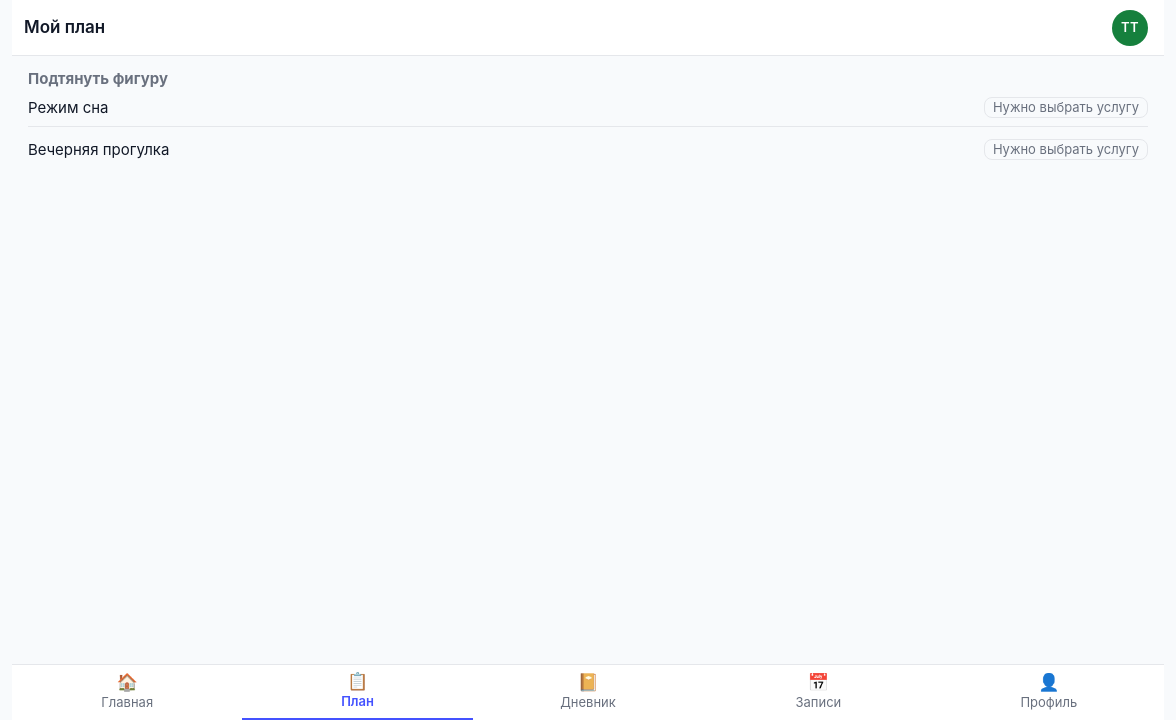
Test: «Мой план»: от шага к услуге, времени и записи › в выбранном дне времени уже нет — остальные дни остаются на выбор
Step 1. Click the button "Нужно выбрать услугу" in the row of "Вечерняя прогулка" → coordinates (1066, 150), box [984,139,1148,160]
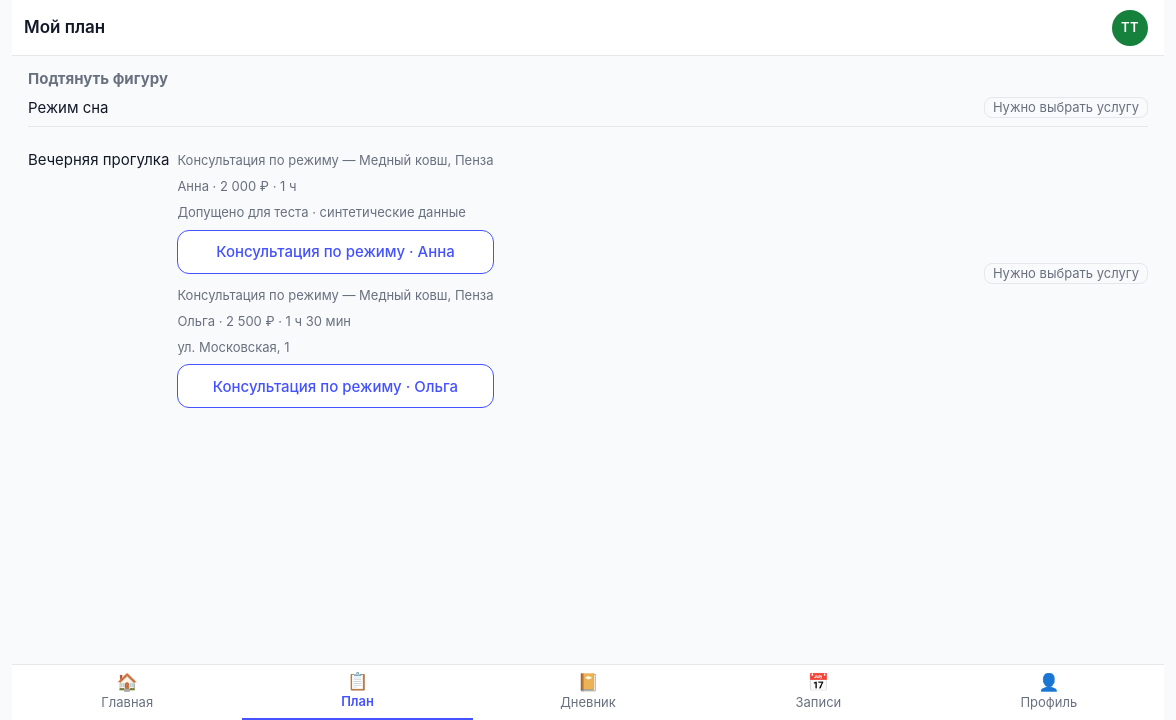
Step 2. Click the button "Консультация по режиму · Ольга" → coordinates (336, 386), box [177,364,494,408]
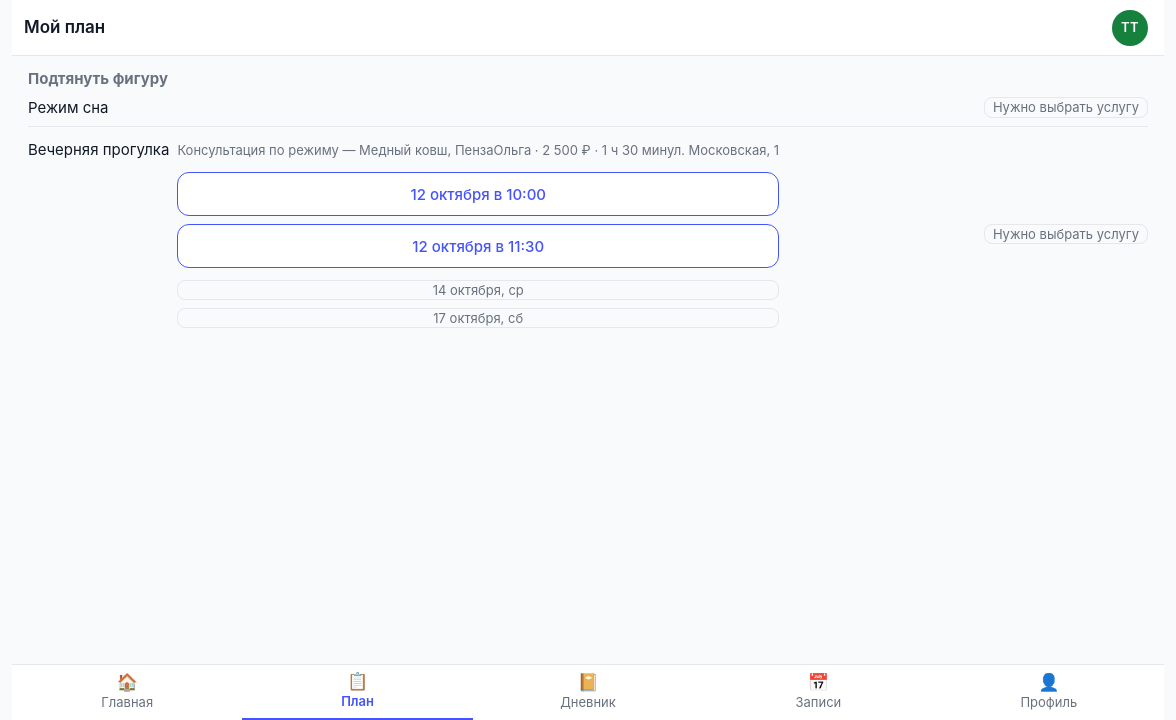
Step 3. Click the button "17 октября, сб" → coordinates (478, 318), box [177,308,779,328]
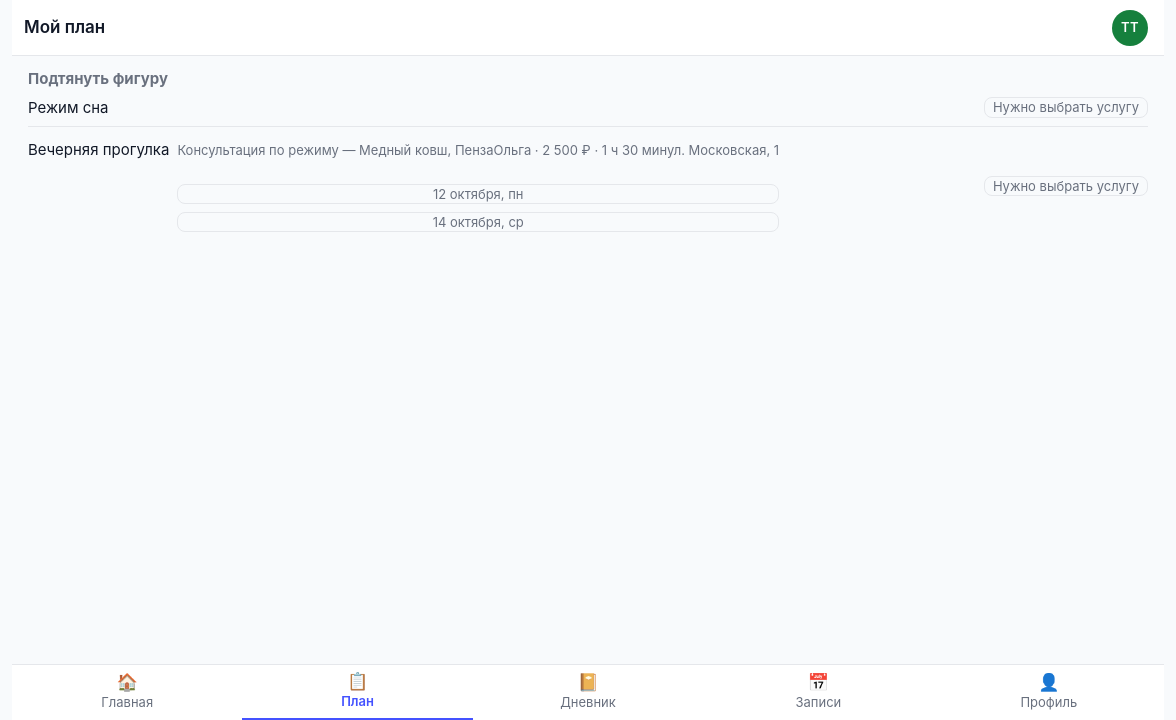
expect the button "12 октября в 10:00" is gone: met
expect the buttons read "12 октября, пн", "14 октября, ср", in this order: met, box [177,184,779,204]; [177,212,779,232]
